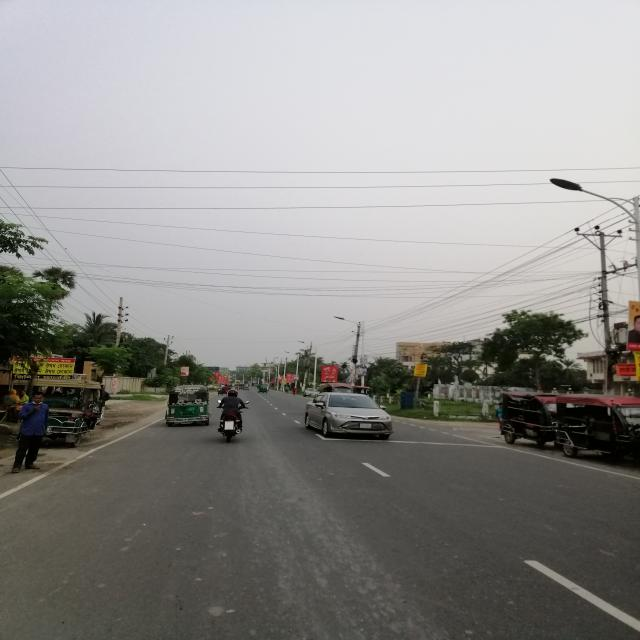Car: (300, 388, 396, 441)
